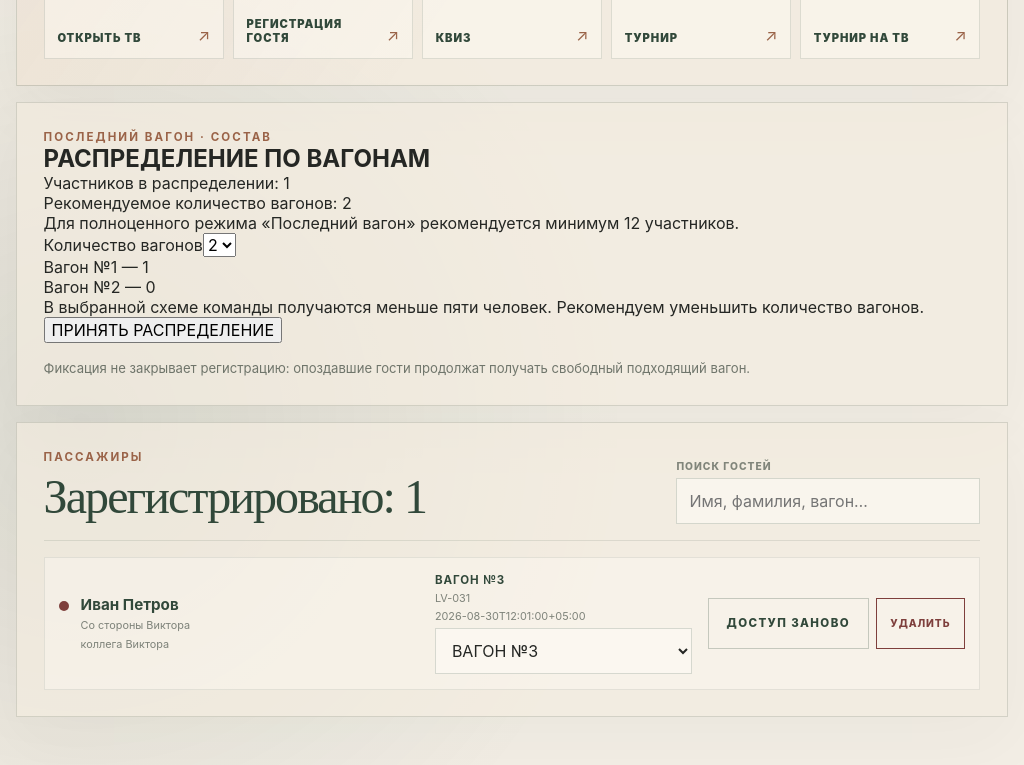
Test: AdminShell › removes a deleted duplicate from the visible guest list after owner confirmation
(page scrolled)
Expected: the heading "Иван Петров" is shown, top-left (81, 595), bottom-right (179, 614)
Click the button with aria-label "УДАЛИТЬ Иван Петров" at [920, 624], box top-left (876, 598), bottom-right (965, 649)
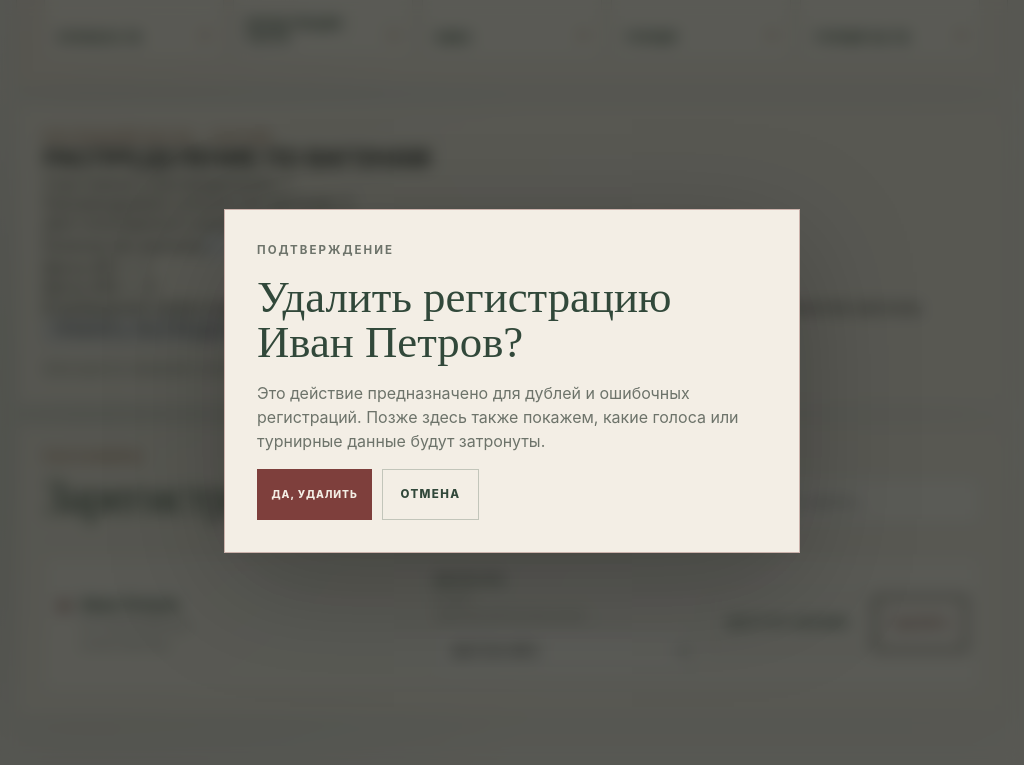
Click the button "ДА, УДАЛИТЬ" at [315, 494], box top-left (257, 469), bottom-right (372, 520)
(page scrolled)
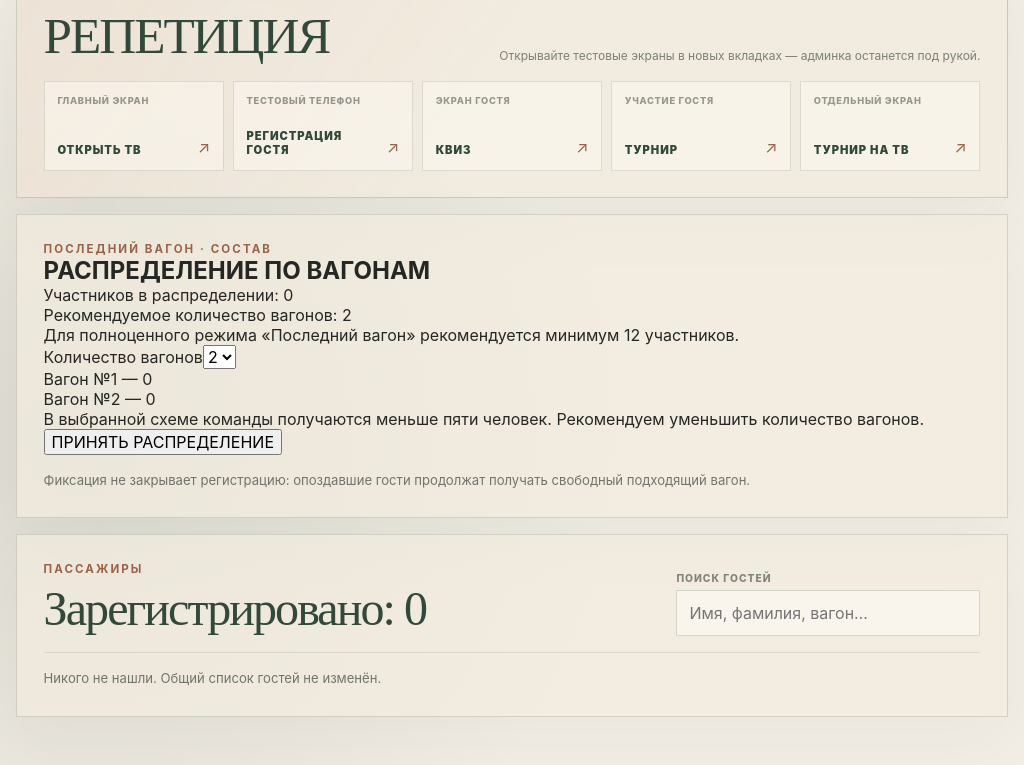
Result: the heading "Иван Петров" is gone
Result: the heading "Зарегистрировано: 0" is shown at top-left (44, 581), bottom-right (426, 636)
